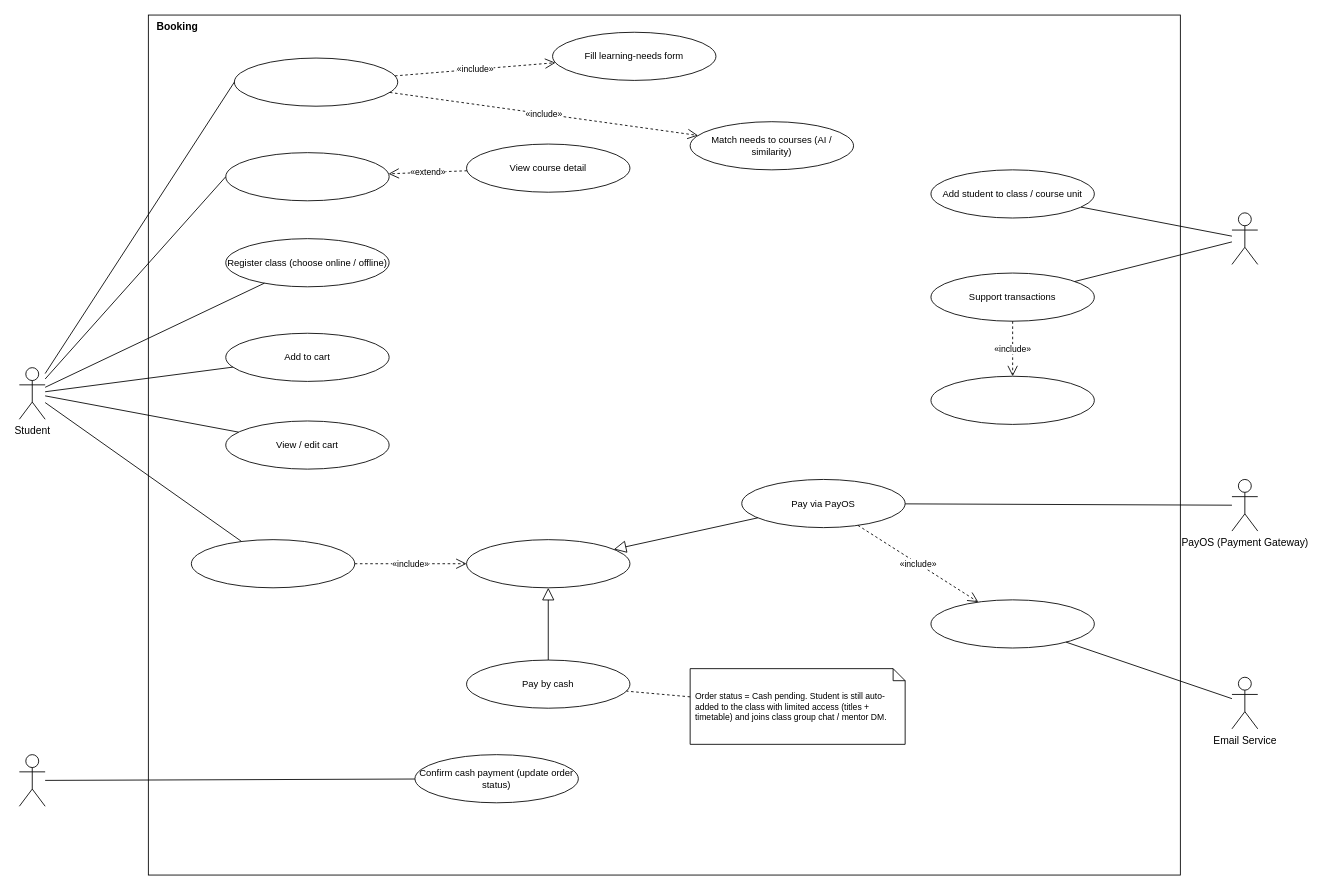
Some shapes in this 1323 by 890 pixel diagram are drawn without their labels. The shapes that lost their labels are listed below. From the top down, each one's centre as x and y in pixels, then its label:
At [315,81]: "Get course recommendation".
At [307,176]: "Browse course list".
At [1244,238]: "Manager/Admin".
At [1012,399]: "View transaction log".
At [272,563]: "Checkout & process order (full payment)".
At [548,563]: "Make payment".
At [1012,623]: "Send order confirmation email".
At [31,780]: "Mentor".
